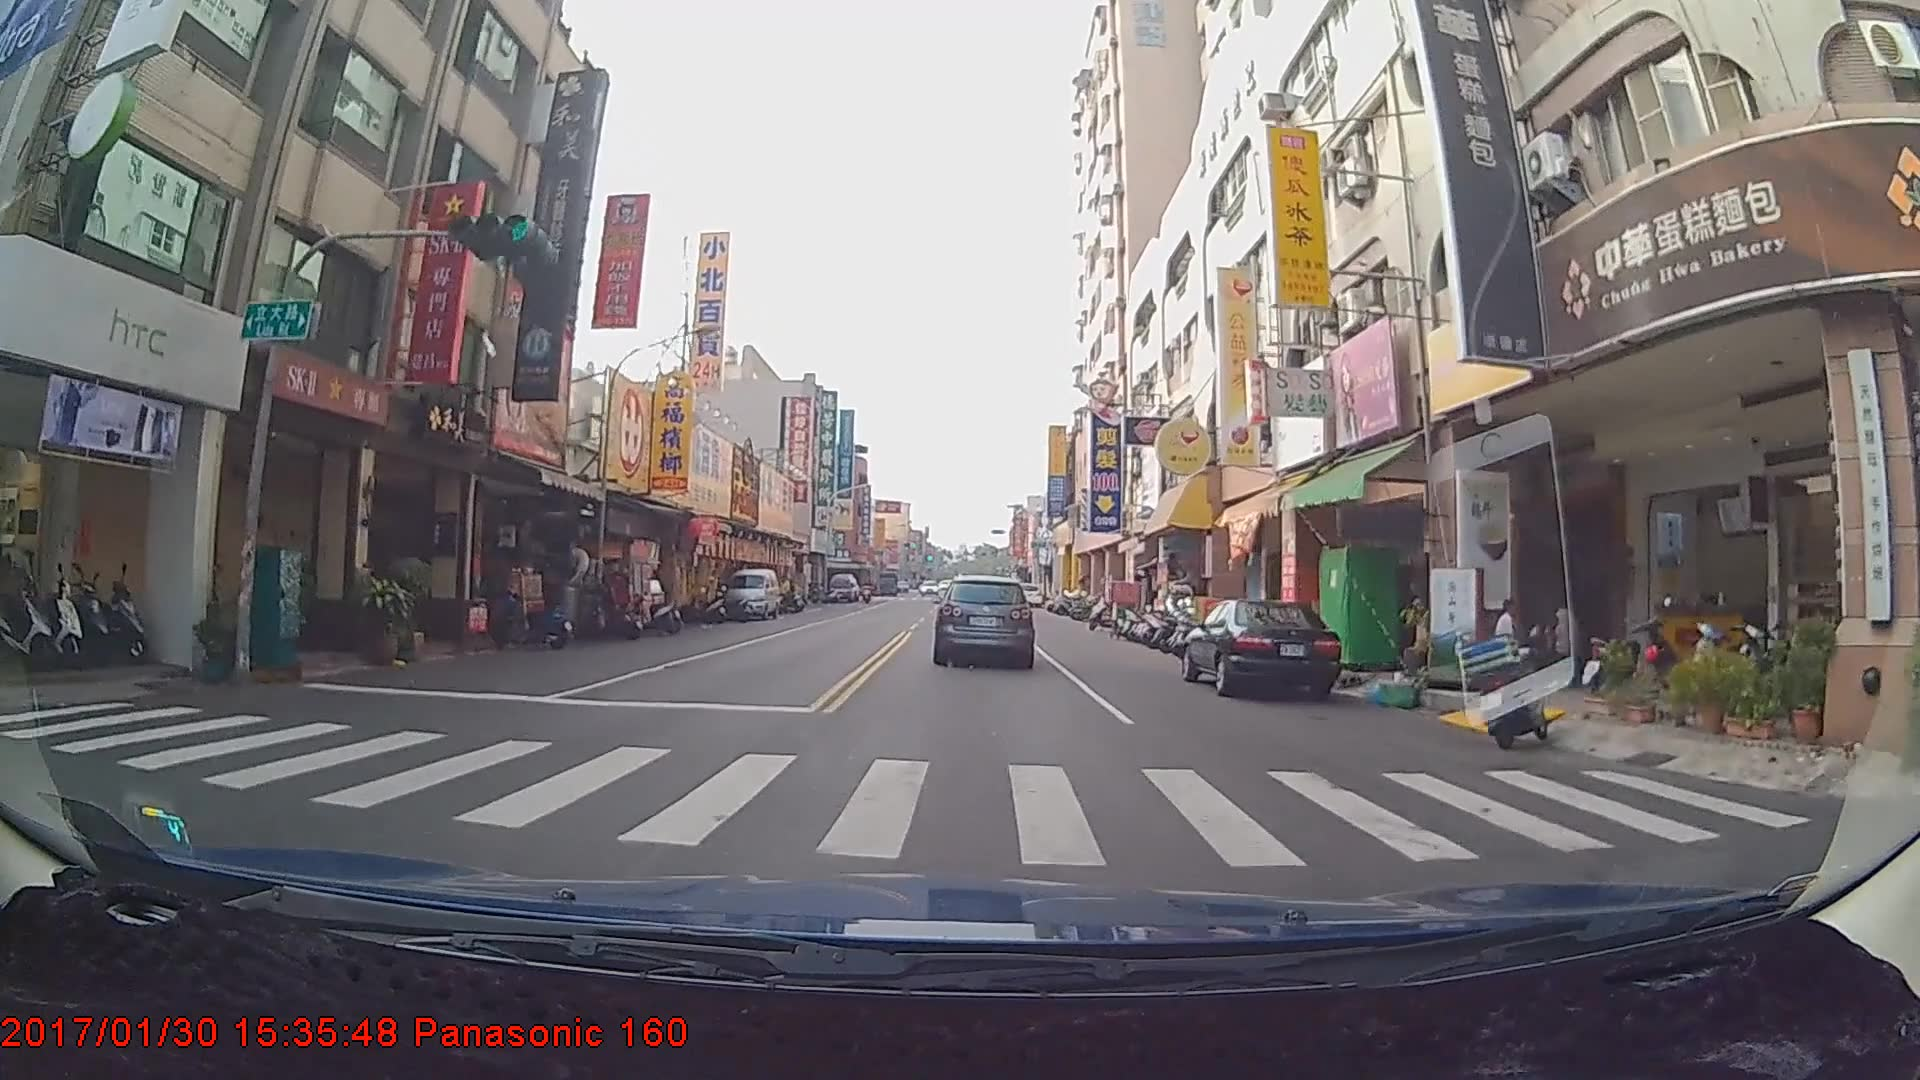pedestrian: (1540, 591, 1584, 689), (1492, 593, 1529, 686)
vehicle: (1184, 595, 1341, 697), (936, 574, 1033, 667), (722, 564, 778, 618), (827, 560, 860, 591), (1011, 581, 1039, 606)
